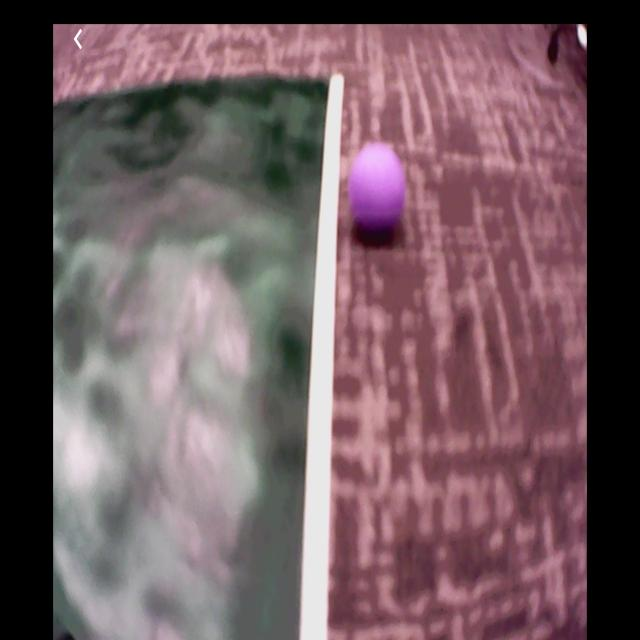ball: (350, 144, 406, 232)
